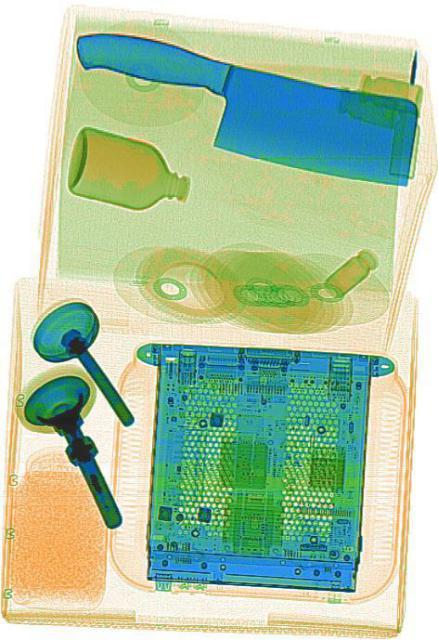Knife: (66, 13, 418, 193)
